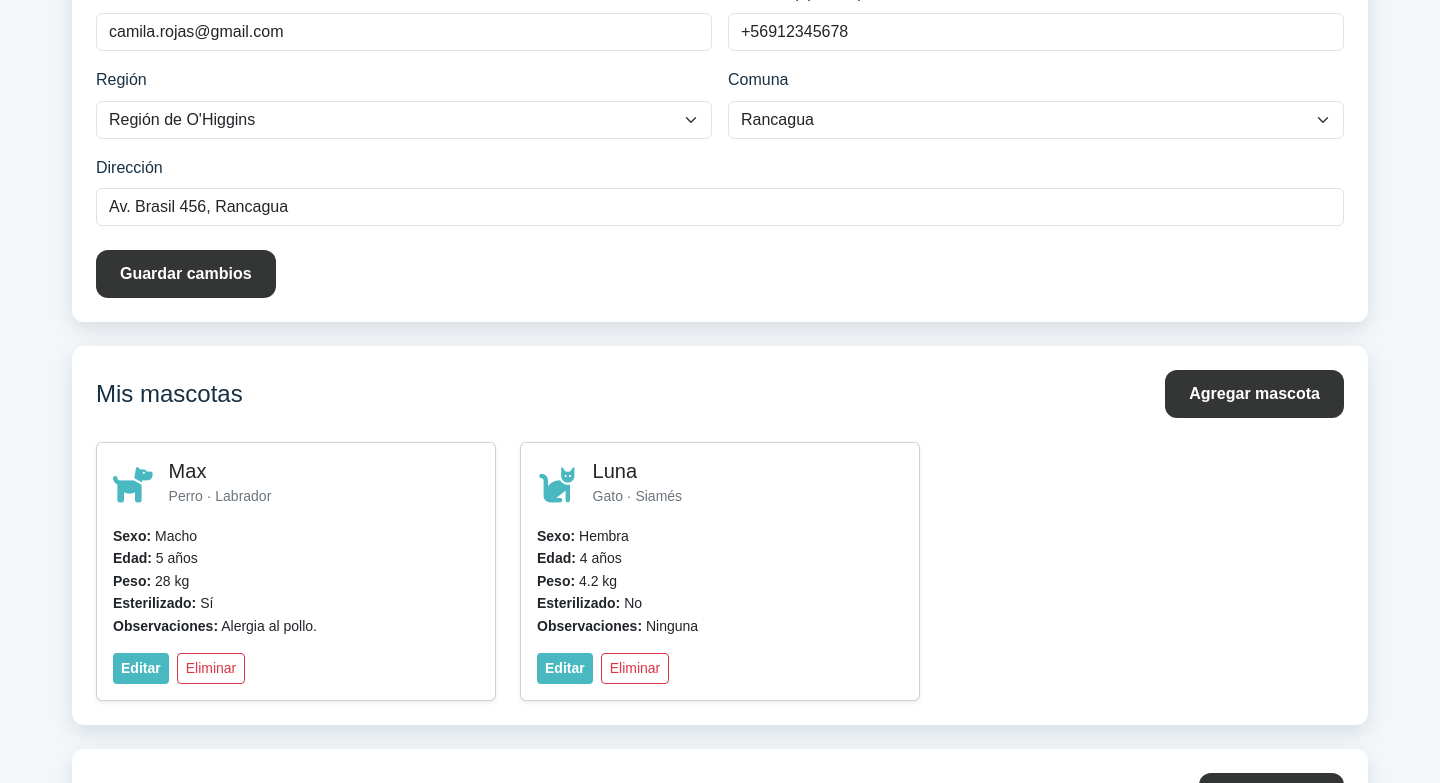
MiPerfil › agrega una mascota nueva y la guarda
The width and height of the screenshot is (1440, 783).
(page scrolled)
Click the button "Agregar mascota" at (1255, 394), box [1165,370,1344,418]
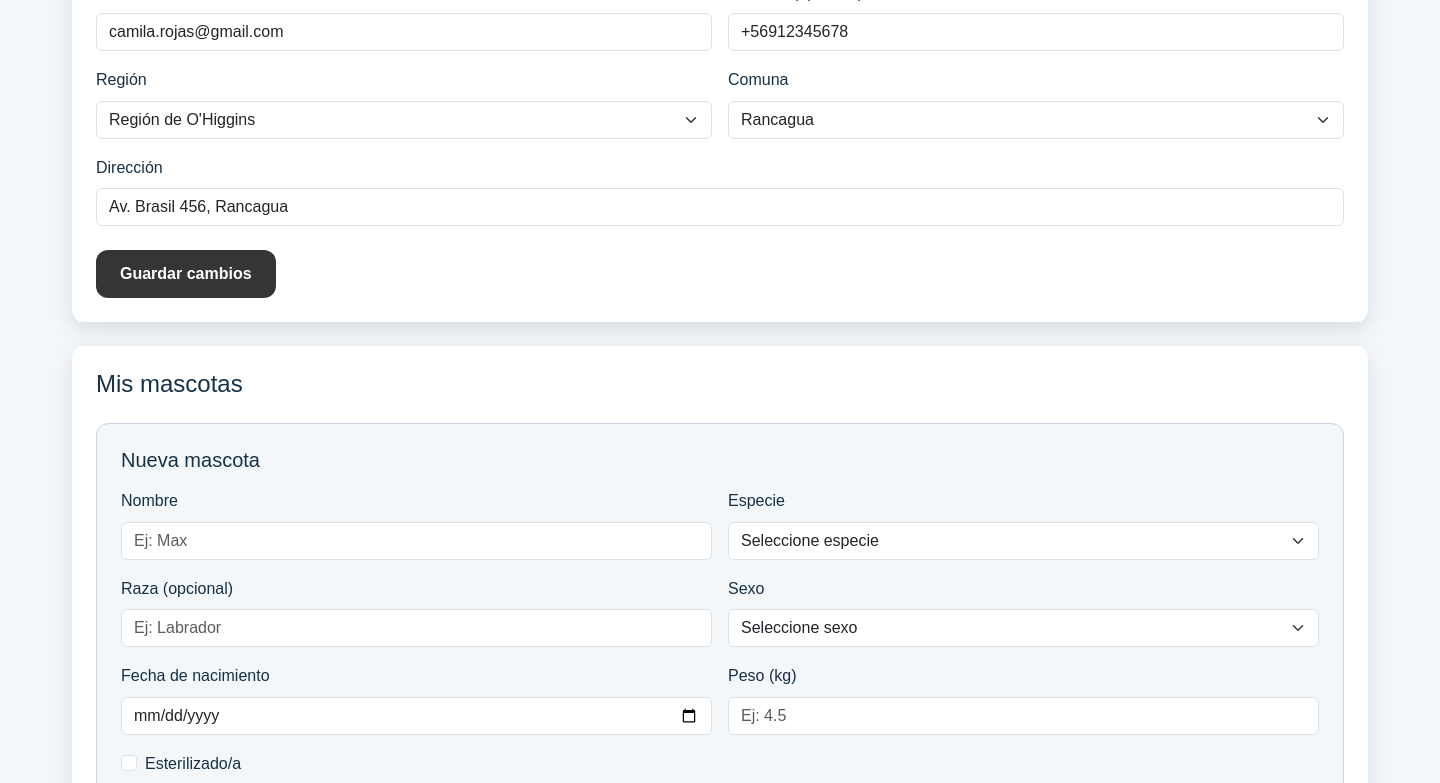
Type "Coco" into the field labelled "Nombre" at (416, 541), box [121,522,712,560]
Select "Conejo" in the dropdown labelled "Especie" at (1024, 541), box [728,522,1319,560]
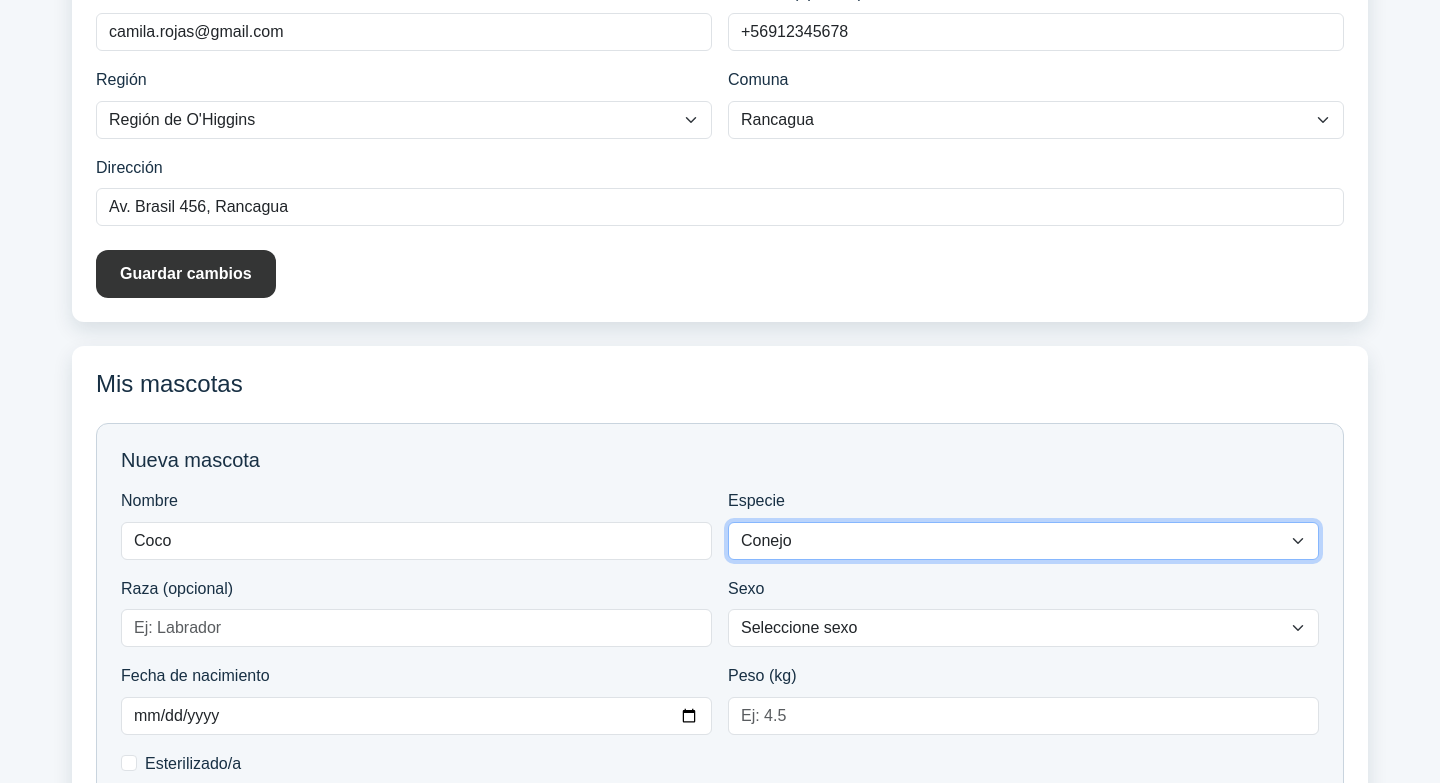
Select "Macho" in the dropdown labelled "Sexo" at (1024, 628), box [728,609,1319,647]
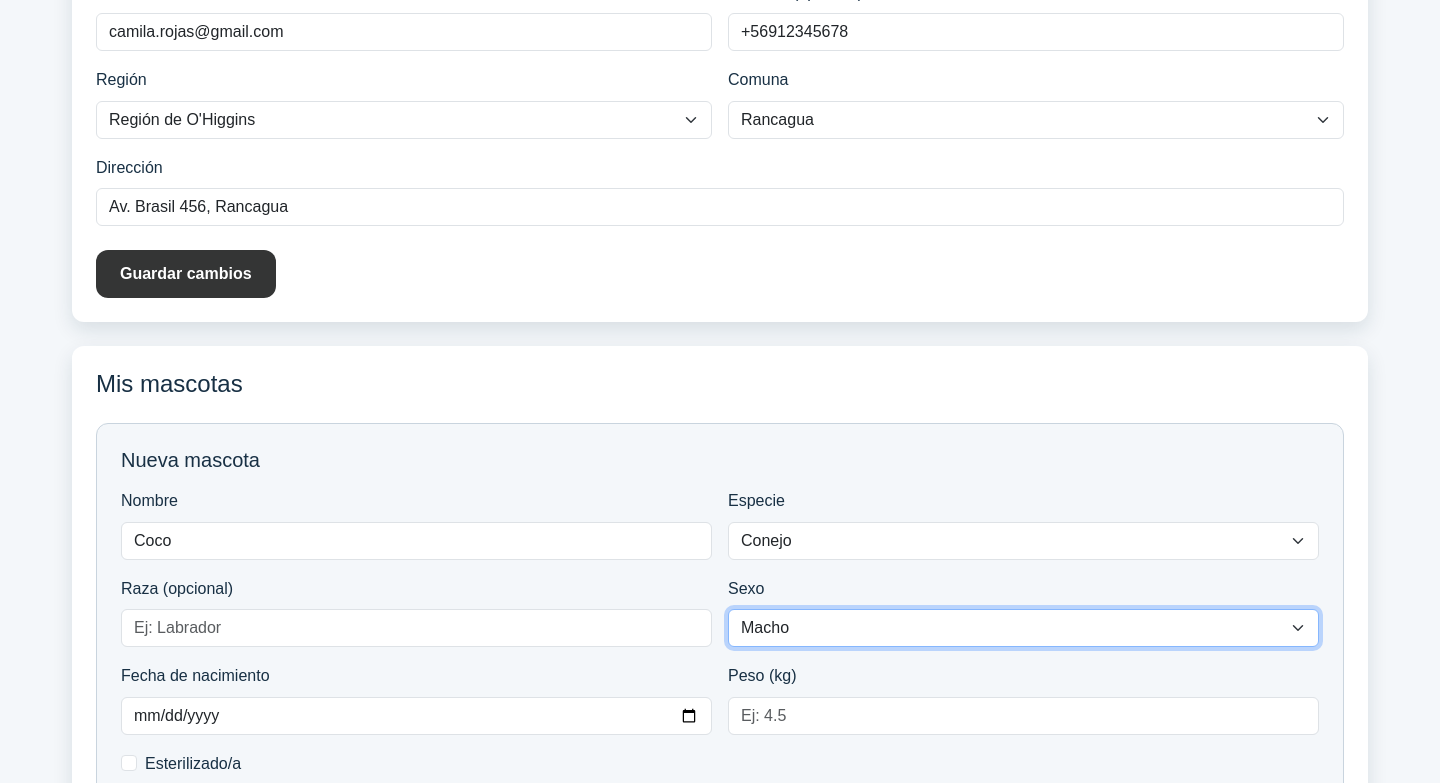
Type "2024-01-10" into the date field labelled "Fecha de nacimiento" at (416, 716), box [121,697,712,735]
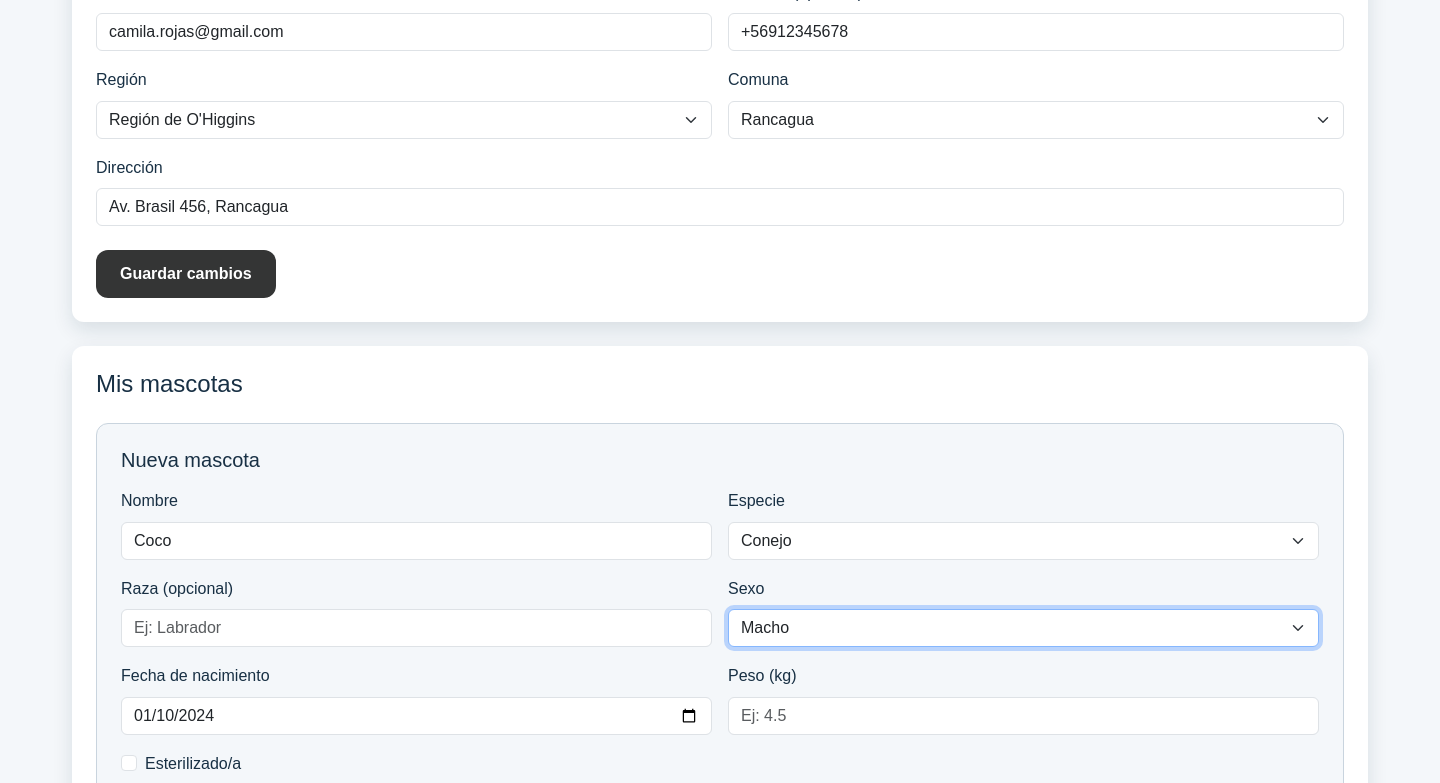
Type "1.5" into the number field labelled "Peso (kg)" at (1024, 716), box [728,697,1319,735]
(page scrolled)
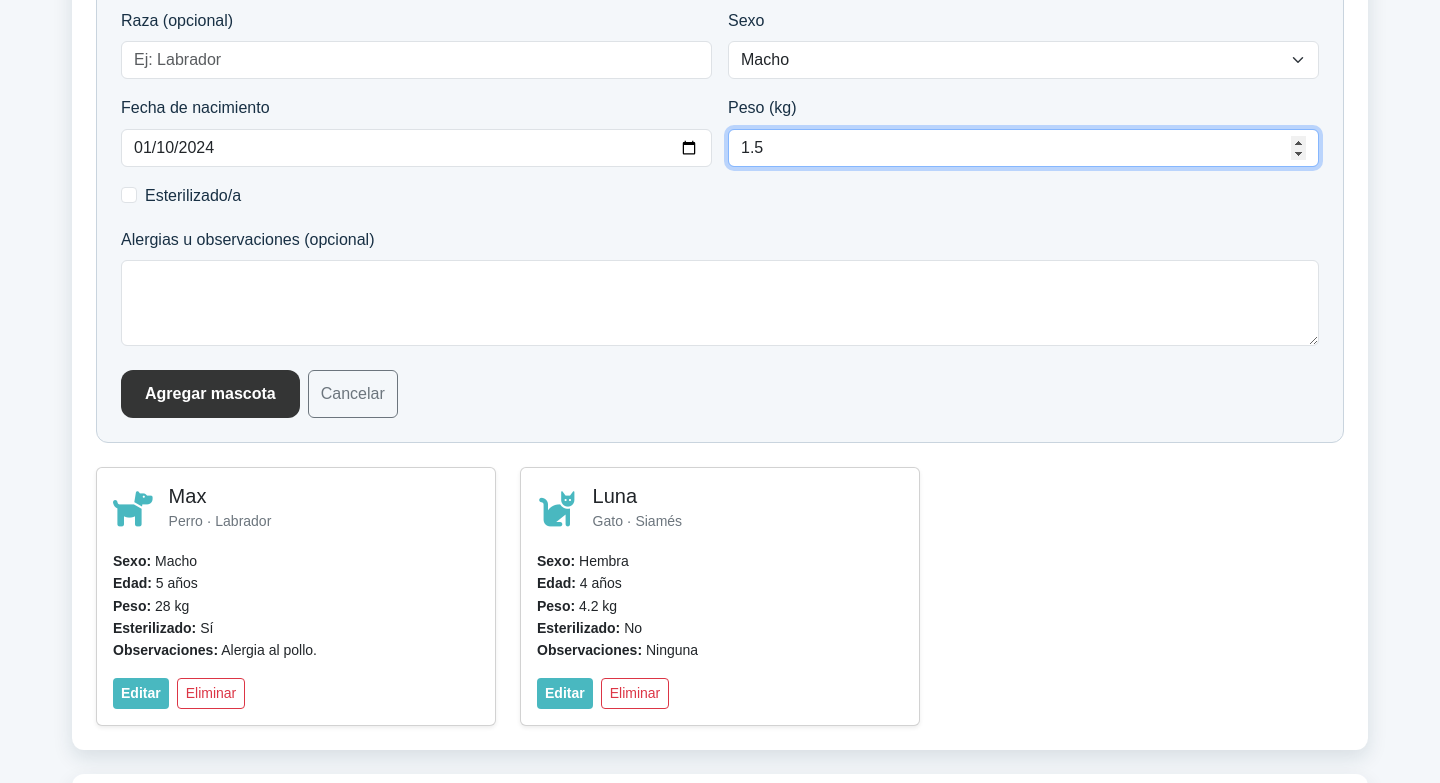
Click the button "Agregar mascota" at (210, 394), box [121,370,300,418]
(page scrolled)
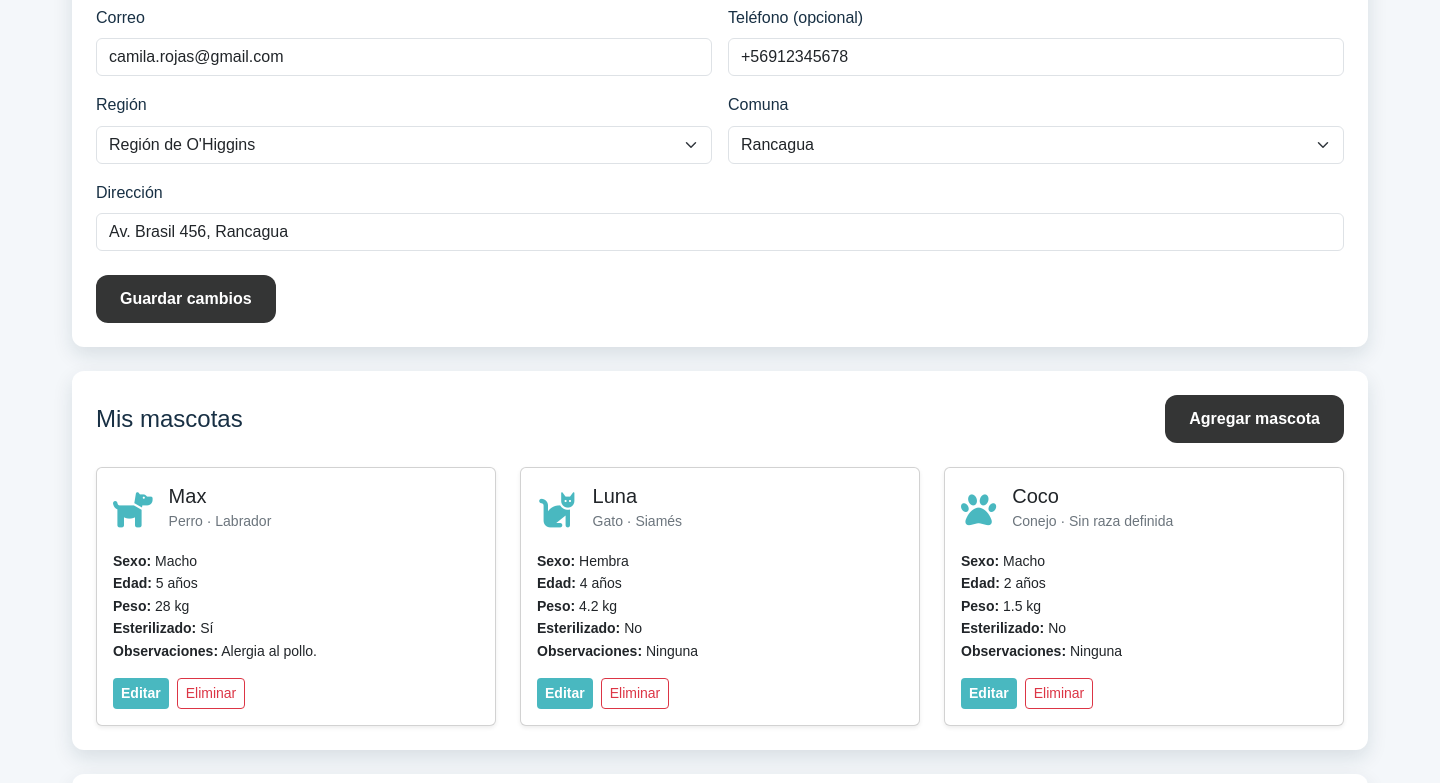
Expected: the heading "Coco" is shown, [1012,485,1059,507]
